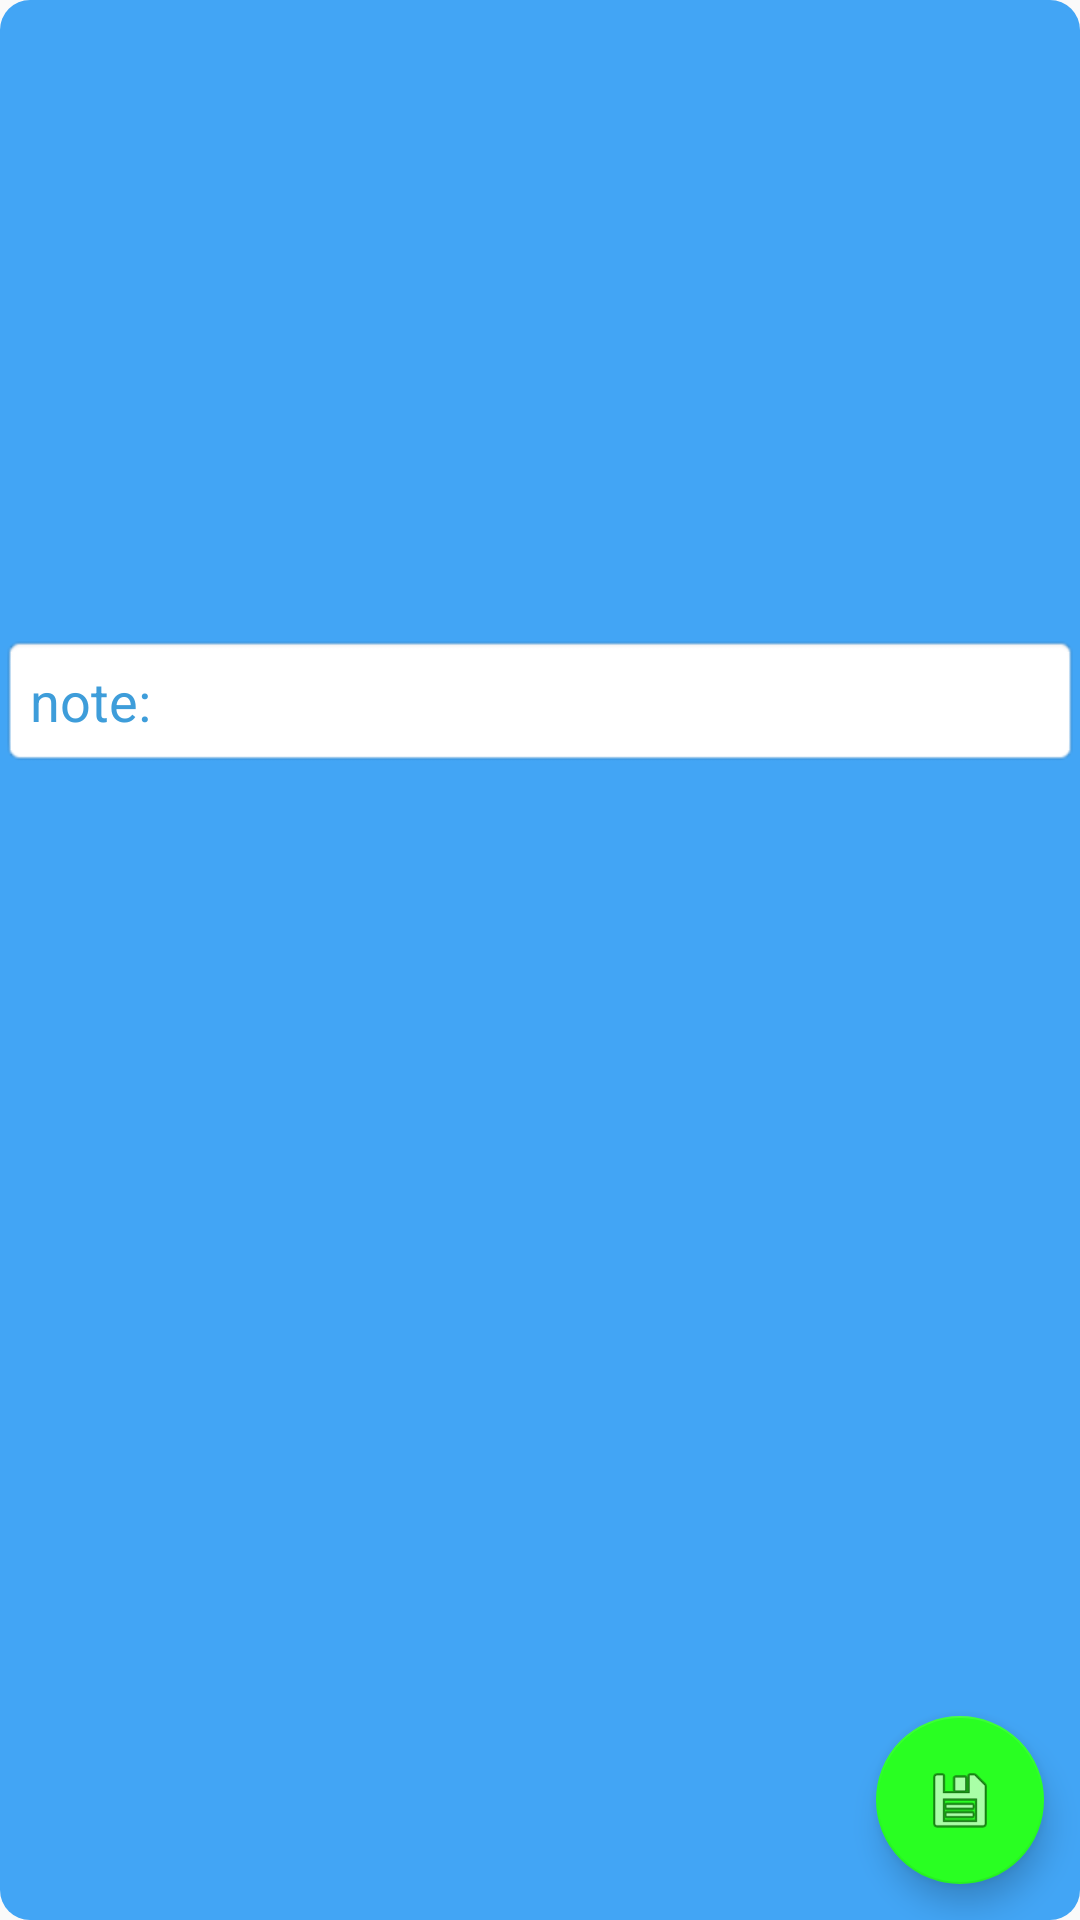

Locate icon controls on the screen. Image size 1080 × 1920, boxes as (x1, y1, x2, y2).
save: (876, 1716, 1044, 1884)
